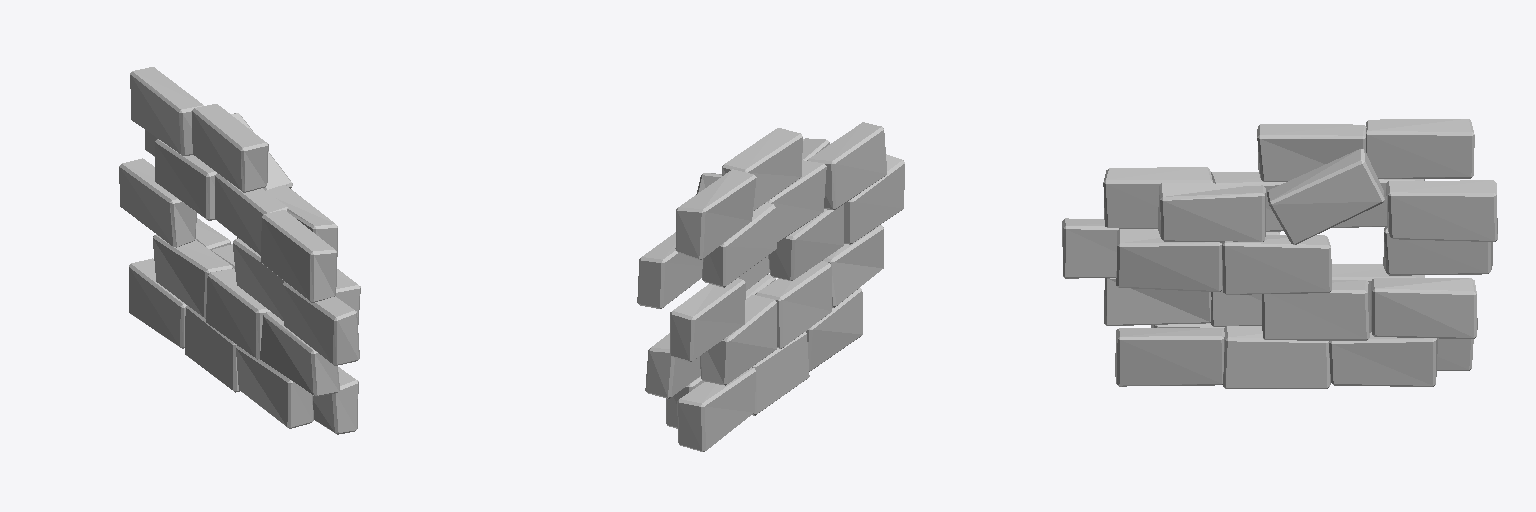
File: Bricks2.obj
3 views of the same model, side by side, from view 1: azimuth 30°, elevation 25°; view 2: azimuth 150°, elevation 25°; view 3: azimuth 270°, elevation 25° (orthographic).
Parts seen in each view (by area): view 1: Bricks_2_; view 2: Bricks_2_; view 3: Bricks_2_.
Boxes of the visible parts, x1=… form: Bricks_2_: x1=119, y1=67, x2=360, y2=434; Bricks_2_: x1=637, y1=122, x2=904, y2=451; Bricks_2_: x1=1062, y1=119, x2=1497, y2=388.
Size of the model in its own units: 0.9461 by 3.38 by 5.42.